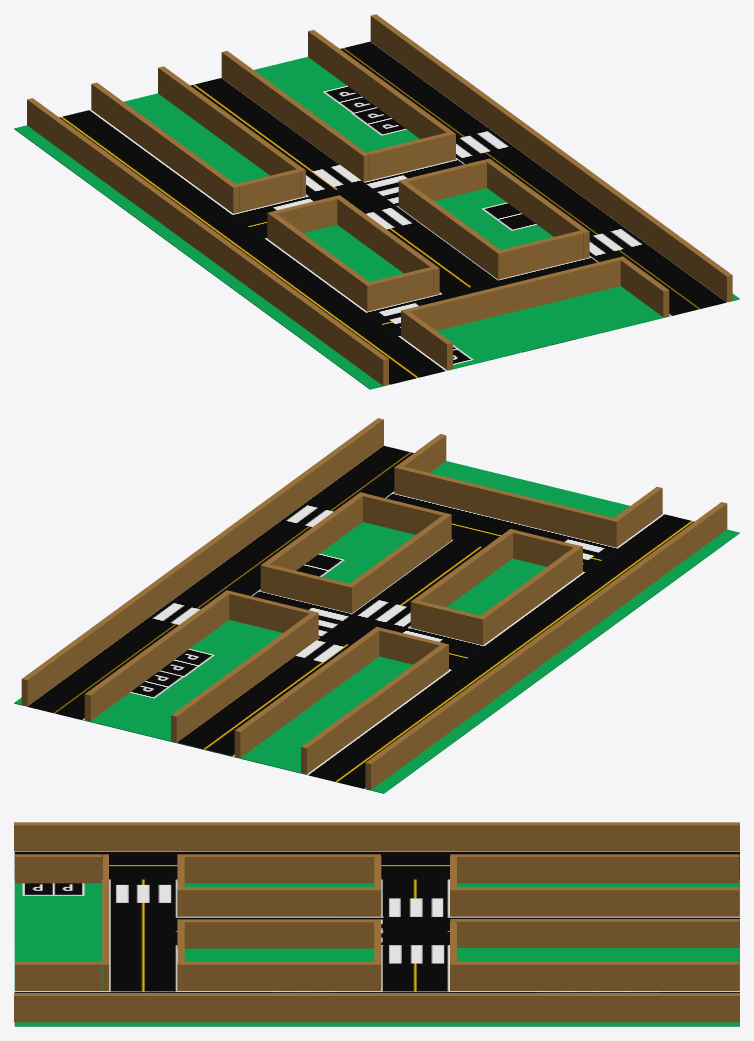
The model's file is turtlebot_city.dae.
The picture shows the model from 3 angles, top to bottom: view 1: azimuth 30°, elevation 25°; view 2: azimuth 150°, elevation 25°; view 3: azimuth 270°, elevation 25°; orthographic projection.
Visible parts, largest first — view 1: turtlecity_base v0; view 2: turtlecity_base v0; view 3: turtlecity_base v0.
Boxes of the visible parts, x1,y1,x2,y2 form: turtlecity_base v0: [14, 14, 739, 389]; turtlecity_base v0: [14, 418, 739, 793]; turtlecity_base v0: [14, 822, 739, 1026].
Bounding box in the file's own units: 30 × 50.05 × 2.05.
2 materials, 2 textured.
